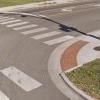Crosswalk: (1, 7, 70, 53)
